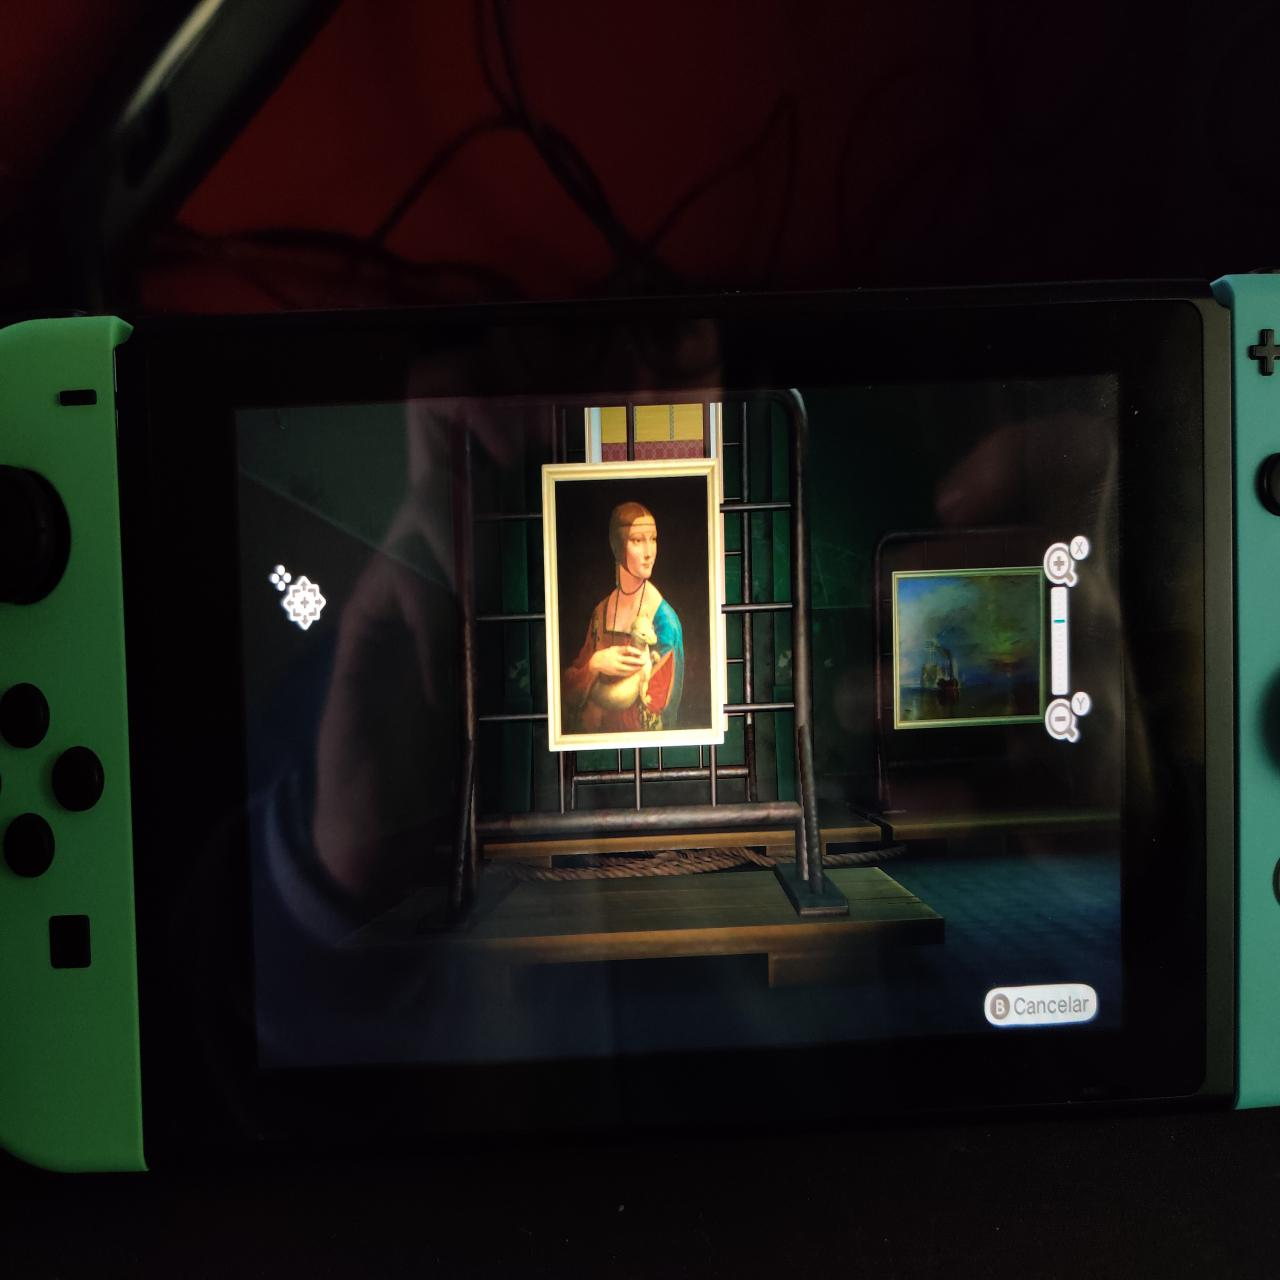FightingTemeraire: (898, 579, 1046, 720)
PortraitCecilia: (558, 485, 716, 731)
